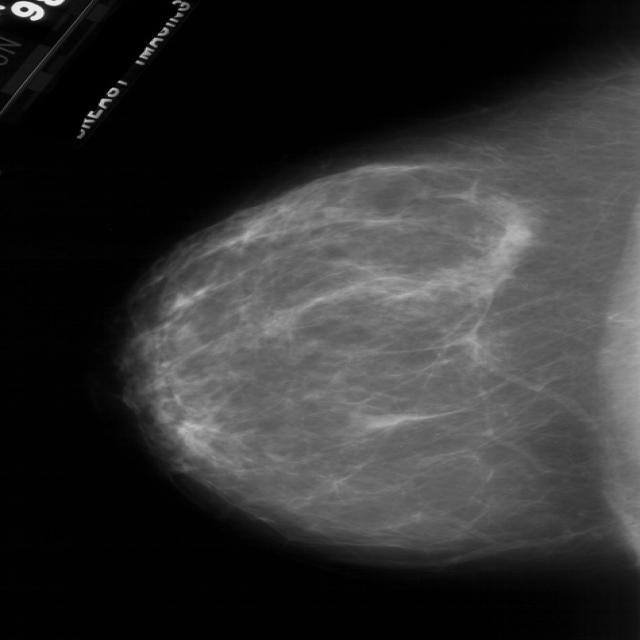tumour: (170, 324, 200, 353)
